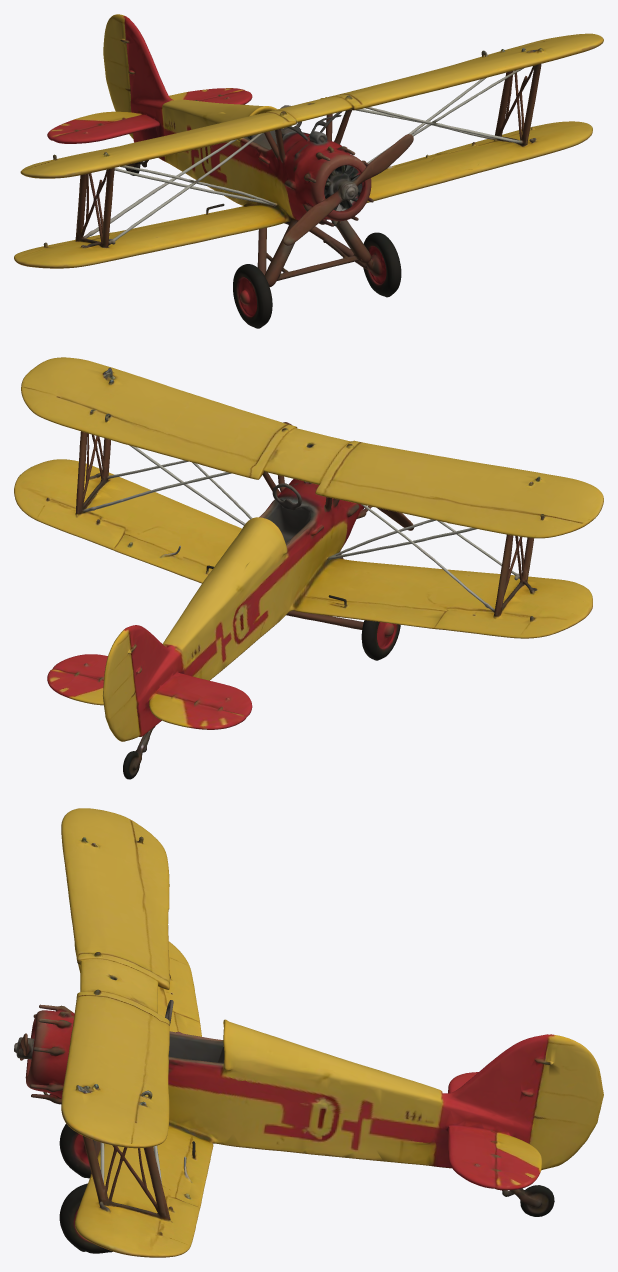
The model's file is 098_crop_duster_biplane.glb.
3 views of the same model, one above another, from view 1: azimuth 30°, elevation 25°; view 2: azimuth 150°, elevation 25°; view 3: azimuth 270°, elevation 25° (orthographic). The views are drawn at different scales.
Visible parts, largest first — view 1: geometry_0; view 2: geometry_0; view 3: geometry_0.
Part boxes in pixels (bbox=[...]): geometry_0: bbox=[14, 14, 603, 328]; geometry_0: bbox=[14, 357, 603, 779]; geometry_0: bbox=[14, 808, 603, 1257].
Bounding box in the file's own units: 10 × 3.61 × 7.54.
1 material, 1 textured.
